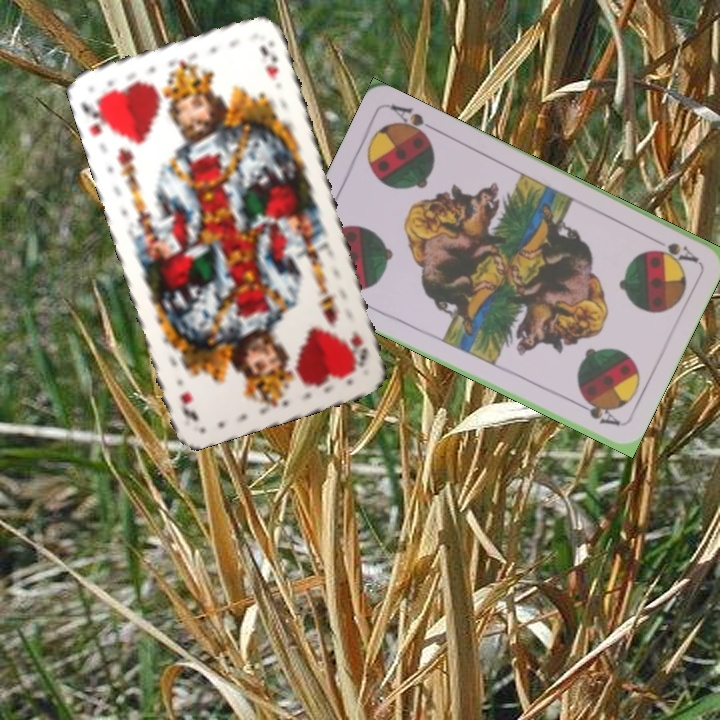HK: (76, 94, 115, 139), (346, 327, 371, 370)
SA: (645, 232, 701, 266)
